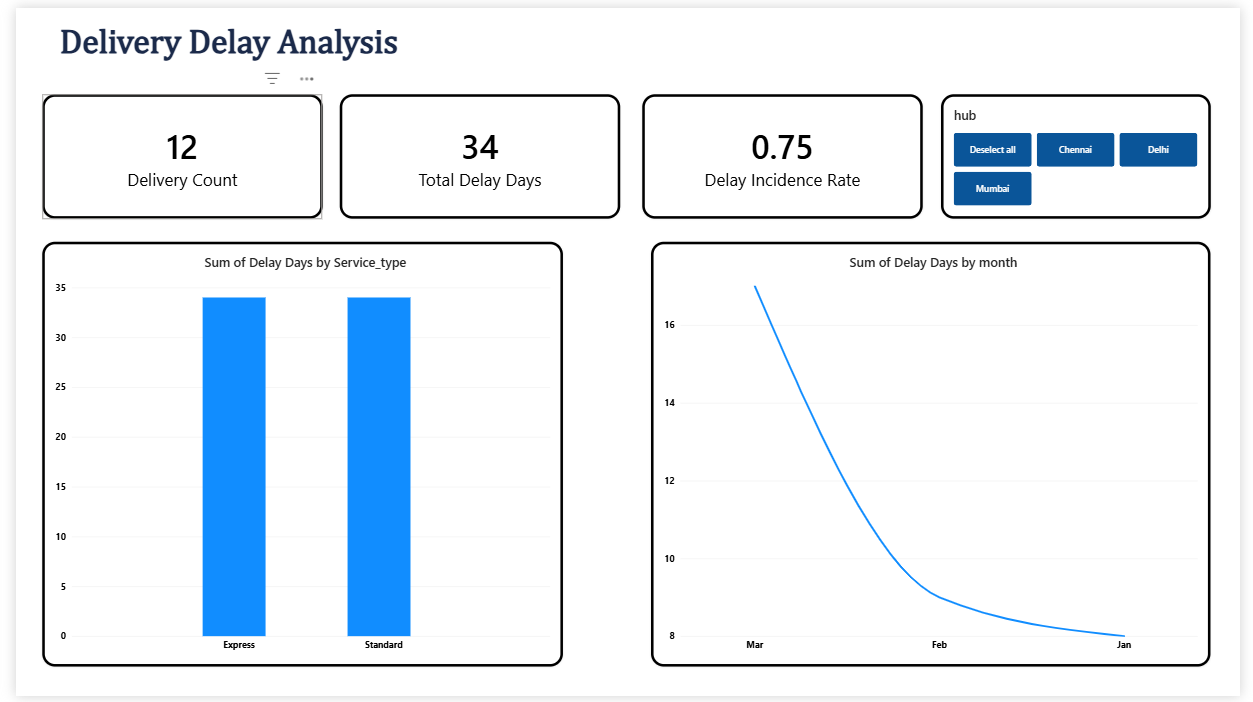

The page's visual inventory and layout, read from the dashboard file:
{"tool":"powerbi","page":{"name":"Page 1","canvas":[1920,1080],"ordinal":0},"visuals":[{"type":"card","fields":{"Values":["Measureses.Delivery Count"]},"box":[40.5,136.2,439.9,195.1],"z":0},{"type":"clusteredColumnChart","fields":{"Category":["routes.Service_type"],"Y":["Sum(deliveries.Delay Days)"]},"box":[40.5,366.3,817.2,666.3],"z":3},{"type":"lineChart","fields":{"Category":["deliveries.month"],"Y":["Sum(deliveries.Delay Days)"]},"box":[995.7,366.3,877.9,666.3],"z":4},{"type":"card","fields":{"Values":["Measureses.Delay Incidence Rate"]},"box":[982.8,136.2,439.9,195.1],"z":5},{"type":"card","fields":{"Values":["Measureses.Total Delay Days"]},"box":[508,136.2,439.9,195.1],"z":6},{"type":"advancedSlicerVisual","fields":{"Values":["deliveries.hub"]},"box":[1450.3,136.2,423.3,195.1],"z":7},{"type":"textbox","box":[99.4,99.4,381,101.2],"z":8},{"type":"textbox","box":[68.1,25.8,806.1,110.4],"z":9}]}

Visuals, with their boxes in screenshot pixels (x1, y1, x2, y2), scaled from the page's 1920x1080 canvas onto the 1253x702 screenshot:
card - Measureses.Delivery Count: bbox=(26, 89, 314, 215)
clusteredColumnChart - routes.Service_type x Sum(deliveries.Delay Days): bbox=(26, 238, 560, 671)
lineChart - deliveries.month x Sum(deliveries.Delay Days): bbox=(650, 238, 1223, 671)
card - Measureses.Delay Incidence Rate: bbox=(641, 89, 928, 215)
card - Measureses.Total Delay Days: bbox=(332, 89, 619, 215)
advancedSlicerVisual - deliveries.hub: bbox=(946, 89, 1223, 215)
textbox: bbox=(65, 65, 314, 130)
textbox: bbox=(44, 17, 571, 89)
